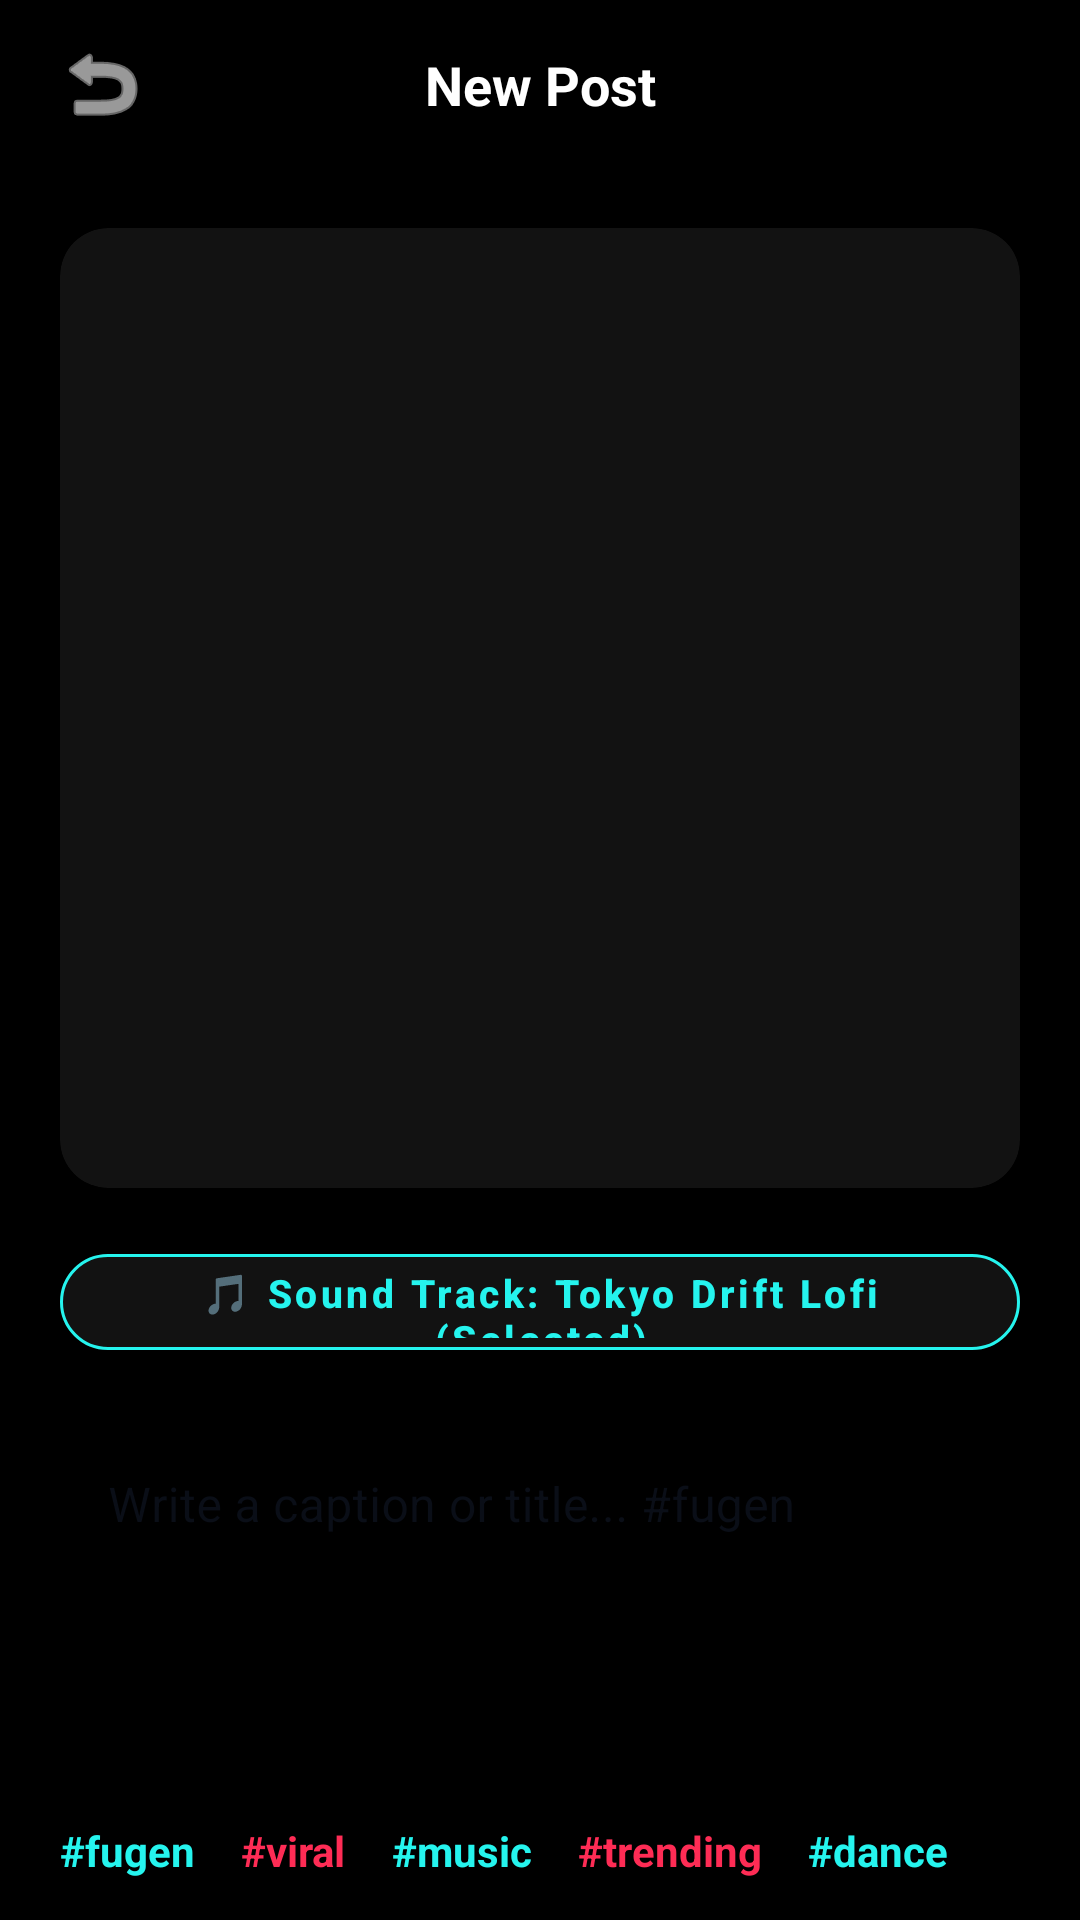

Where icons sit on this 1080x1920 app screen, as box(x1, y1, x2, y2):
Back: box(69, 53, 138, 116)
